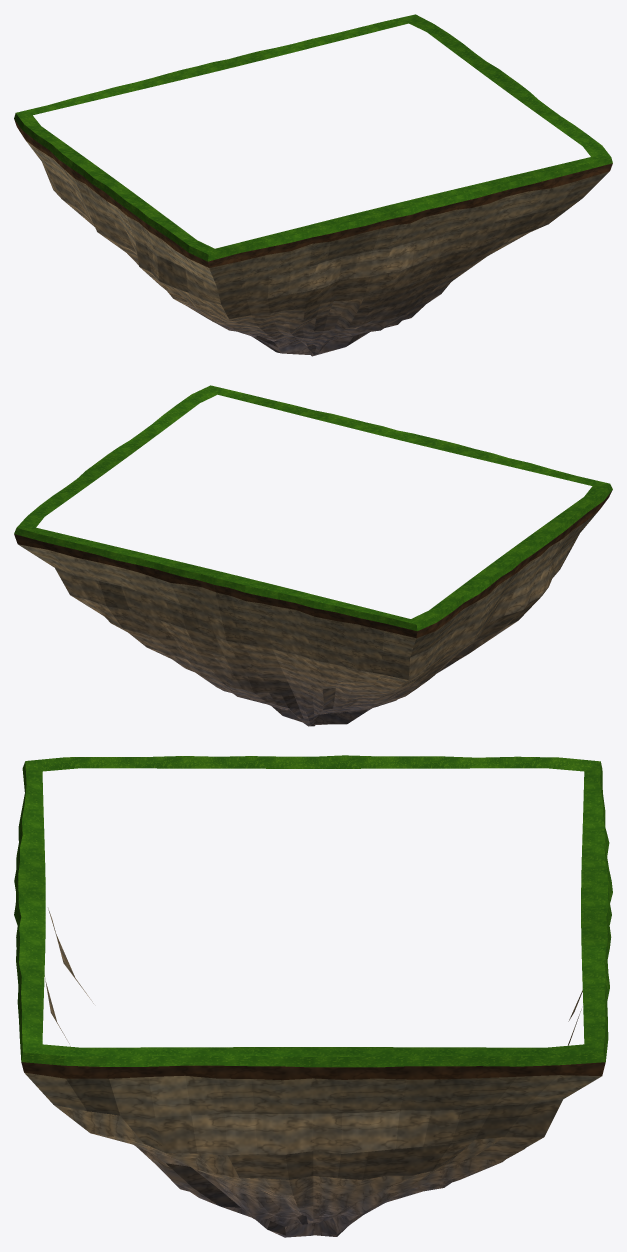
The model's file is island_under_sky_main.glb.
The picture shows the model from 3 angles, top to bottom: view 1: azimuth 30°, elevation 25°; view 2: azimuth 150°, elevation 25°; view 3: azimuth 270°, elevation 25°; orthographic projection. The views are drawn at different scales.
Visible parts, largest first — view 1: island_under_sky_main; view 2: island_under_sky_main; view 3: island_under_sky_main.
Boxes of the visible parts, <box> form: island_under_sky_main: <box>14,14,612,356</box>; island_under_sky_main: <box>14,385,612,726</box>; island_under_sky_main: <box>14,755,612,1237</box>.
Bounding box in the file's own units: 23.41 × 11.82 × 19.47.
2 materials, 2 textured.
